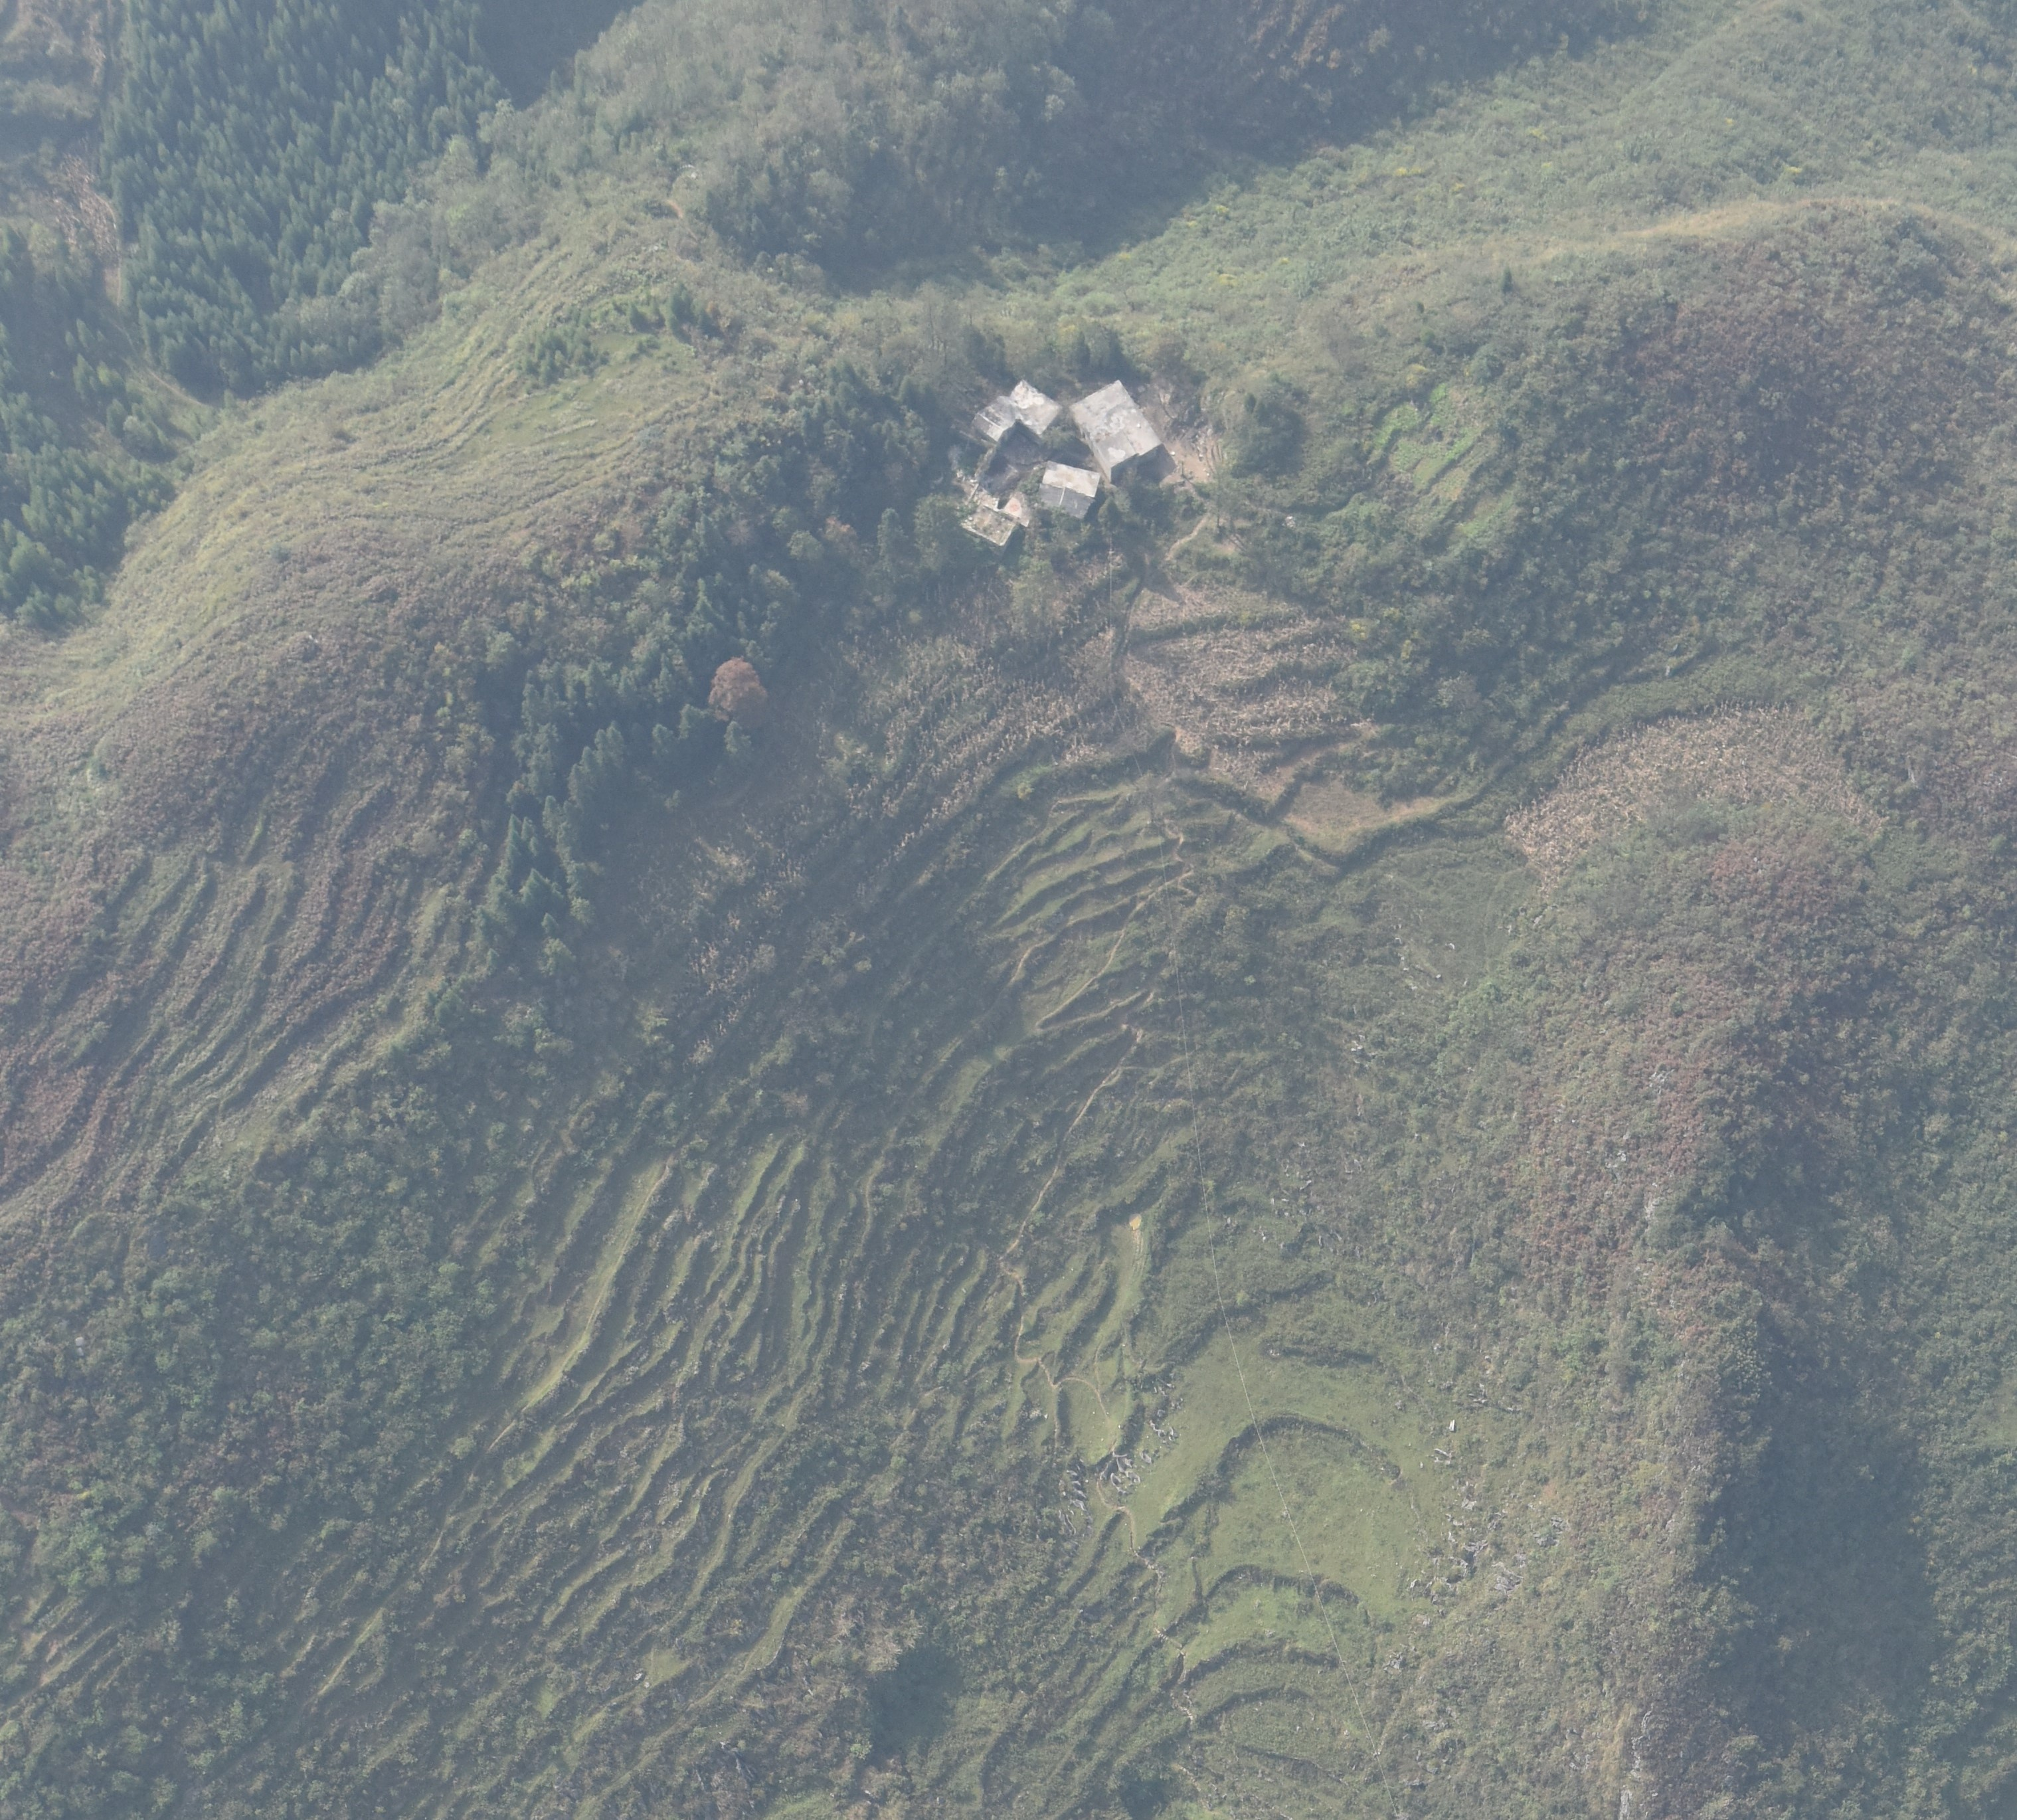building: (1070, 381, 1165, 483), (972, 379, 1061, 443), (956, 483, 1037, 546), (1037, 460, 1102, 518)
